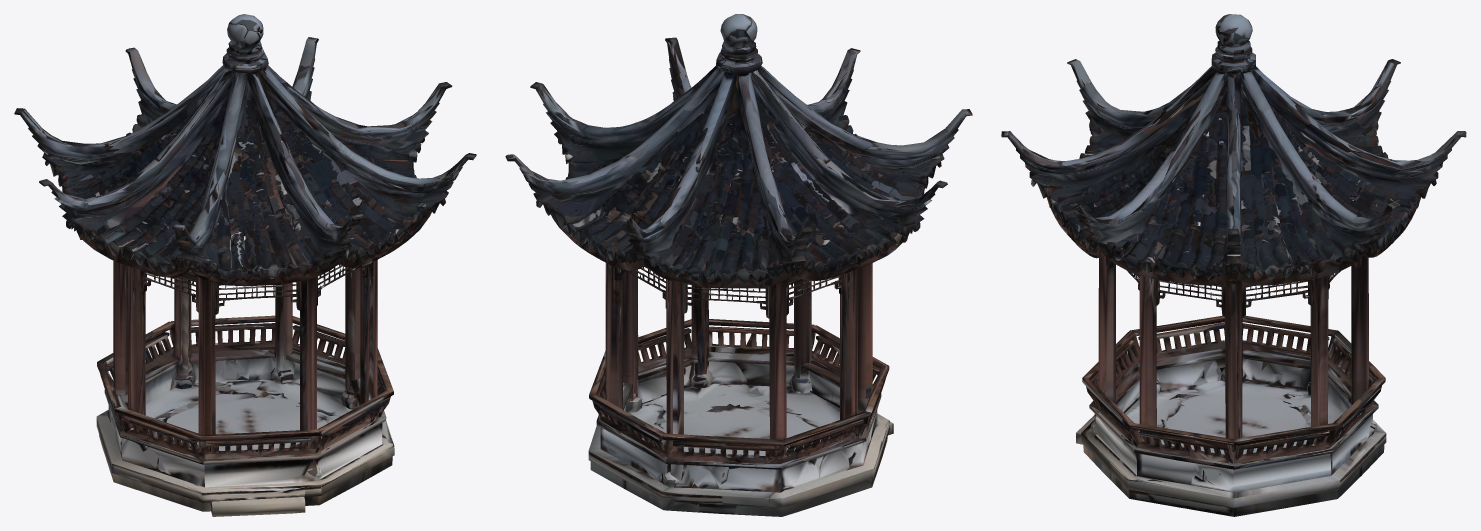
File: pavilion-compressed.glb
3 views of the same model, side by side, from view 1: azimuth 30°, elevation 25°; view 2: azimuth 150°, elevation 25°; view 3: azimuth 270°, elevation 25° (orthographic).
Visible parts, largest first — view 1: node_0; view 2: node_0; view 3: node_0.
Boxes of the visible parts, box(x1,y1,x2,y2) form: node_0: box(14, 14, 476, 516); node_0: box(505, 14, 972, 516); node_0: box(1001, 14, 1466, 516).
Size of the model in its own units: 2.95 by 3 by 2.89.
1 material, 1 textured.
